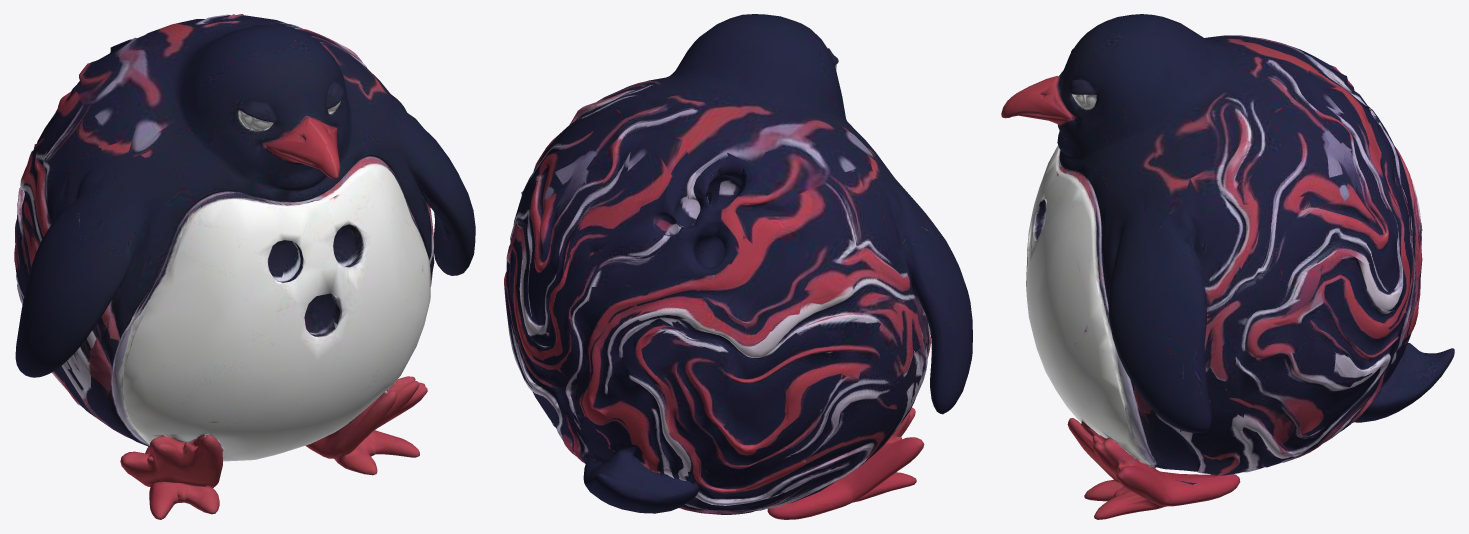
The picture shows the model from 3 angles, left to right: view 1: azimuth 30°, elevation 25°; view 2: azimuth 150°, elevation 25°; view 3: azimuth 270°, elevation 25°; orthographic projection. The views are drawn at different scales.
Visible parts, largest first — view 1: Mesh_0; view 2: Mesh_0; view 3: Mesh_0.
Part boxes in pixels (x1,y1,x2,y2): Mesh_0: (14,14,475,519); Mesh_0: (504,14,972,519); Mesh_0: (1001,14,1454,519).
Size of the model in its own units: 1.9 by 1.81 by 1.7.
Materials: 1 (1 with a texture image).
